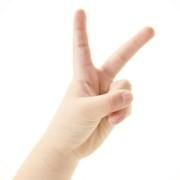tyoki: (59, 8, 155, 156)
